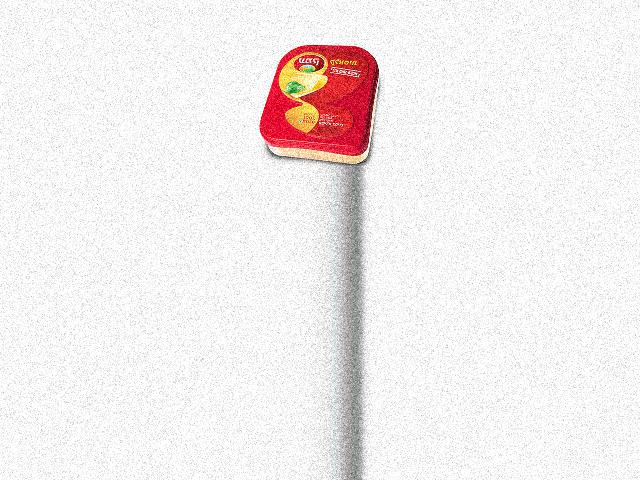cheese: (259, 44, 379, 164)
